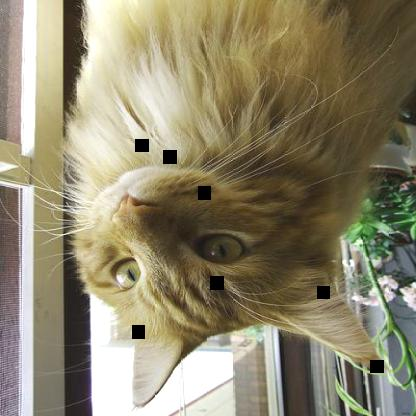cat: (68, 1, 415, 410)
